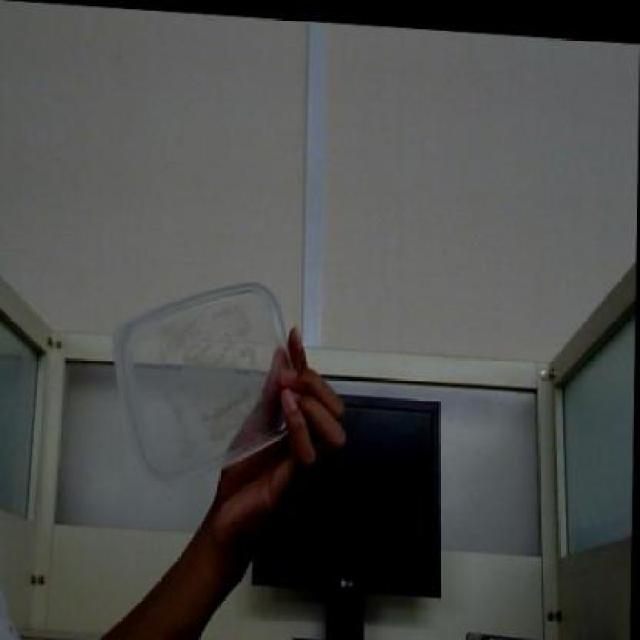Plastic: (105, 281, 309, 483)
